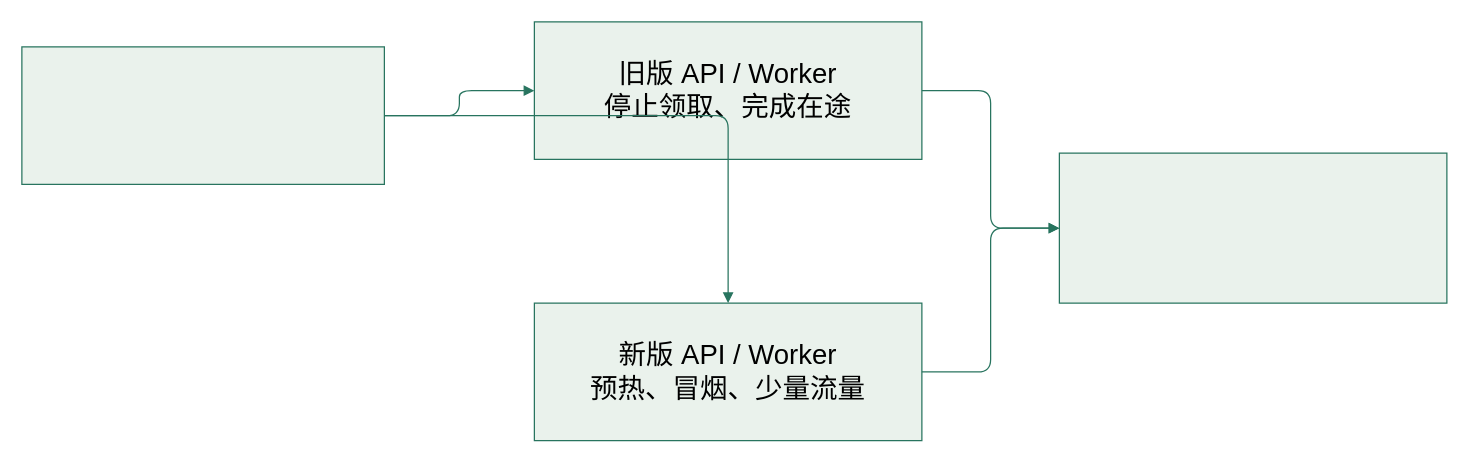
This 1469x463 diagram has some shape labels left out. Here are the shapes that lost their labels. From the top down, the centre of each, then its label:
At point (202, 115): "稳定 HTTPS 入口 保持客户端地址".
At point (1252, 227): "共享持久状态与产物 版本兼容 + 领取租约".
